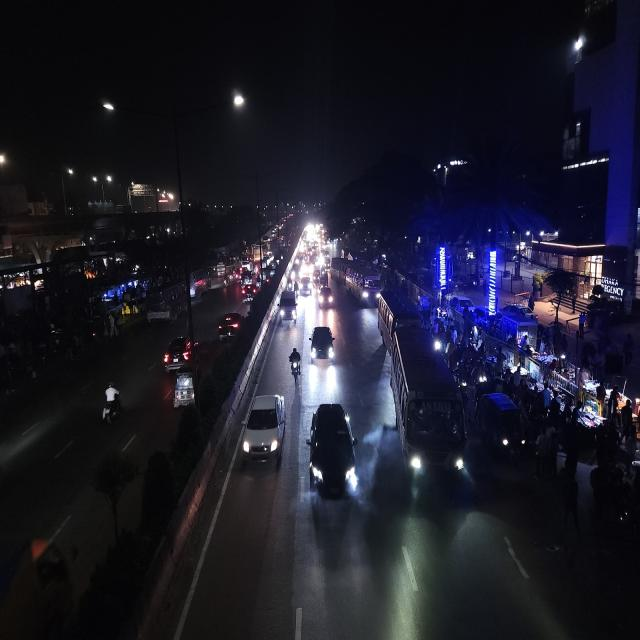bus: (384, 322, 467, 501), (145, 280, 187, 325), (345, 260, 381, 307), (189, 266, 211, 298)
car: (307, 398, 359, 509), (240, 390, 287, 471), (161, 332, 198, 372), (308, 322, 336, 367), (216, 309, 245, 342), (277, 288, 299, 325), (317, 286, 335, 311), (298, 274, 313, 298), (242, 285, 255, 304)
cng: (476, 388, 529, 466), (170, 361, 202, 414)
motorcycle: (97, 380, 125, 432), (288, 344, 302, 382)
